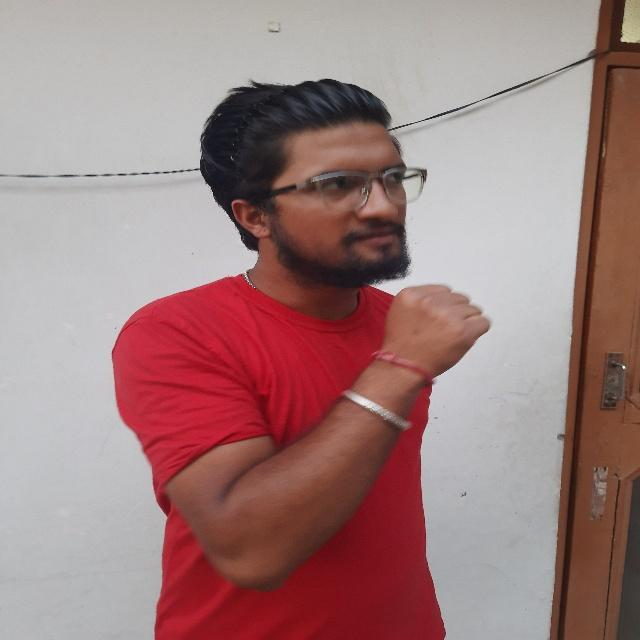Fist Mouth: (212, 72, 498, 390)
